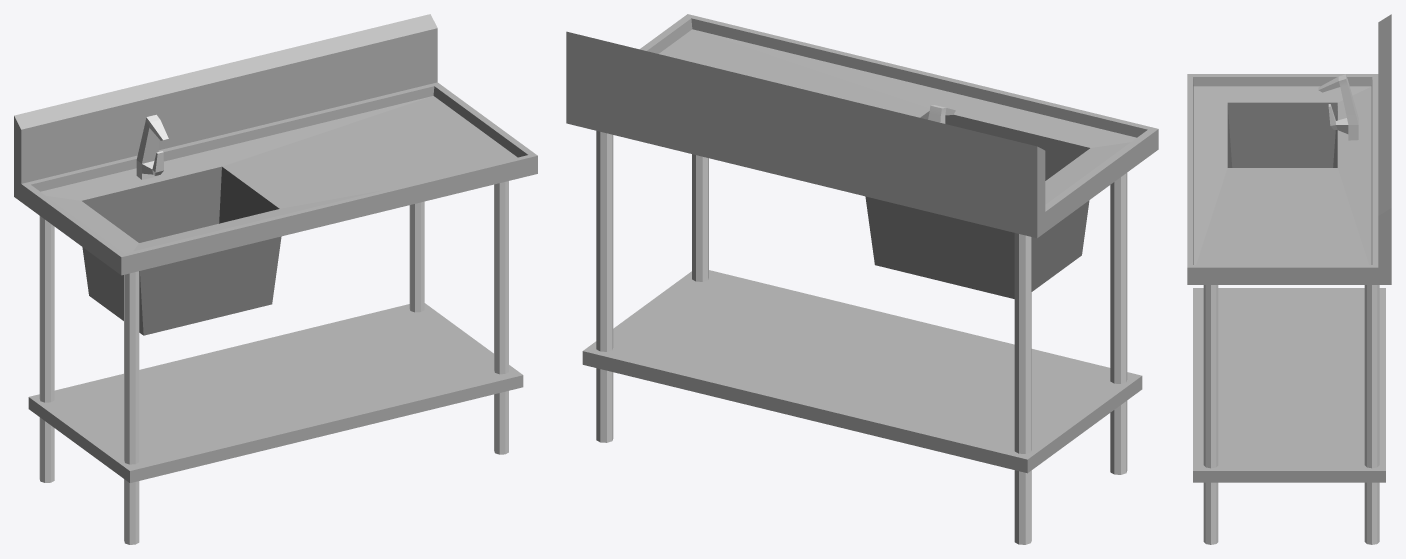
File: Kitchen_prep_station.fbx
3 renders of one model, left to right at view 1: azimuth 30°, elevation 25°; view 2: azimuth 150°, elevation 25°; view 3: azimuth 270°, elevation 25°, orthographic. The views are drawn at different scales.
Visible parts, largest first — view 1: Kitchen_prep_station:pCylinder5; view 2: Kitchen_prep_station:pCylinder5; view 3: Kitchen_prep_station:pCylinder5.
Boxes of the visible parts, x1,y1,x2,y2 form: Kitchen_prep_station:pCylinder5: [14, 14, 537, 544]; Kitchen_prep_station:pCylinder5: [566, 14, 1158, 544]; Kitchen_prep_station:pCylinder5: [1187, 14, 1391, 544].
Bounding box in the file's own units: 38.55 × 32.04 × 17.21.
